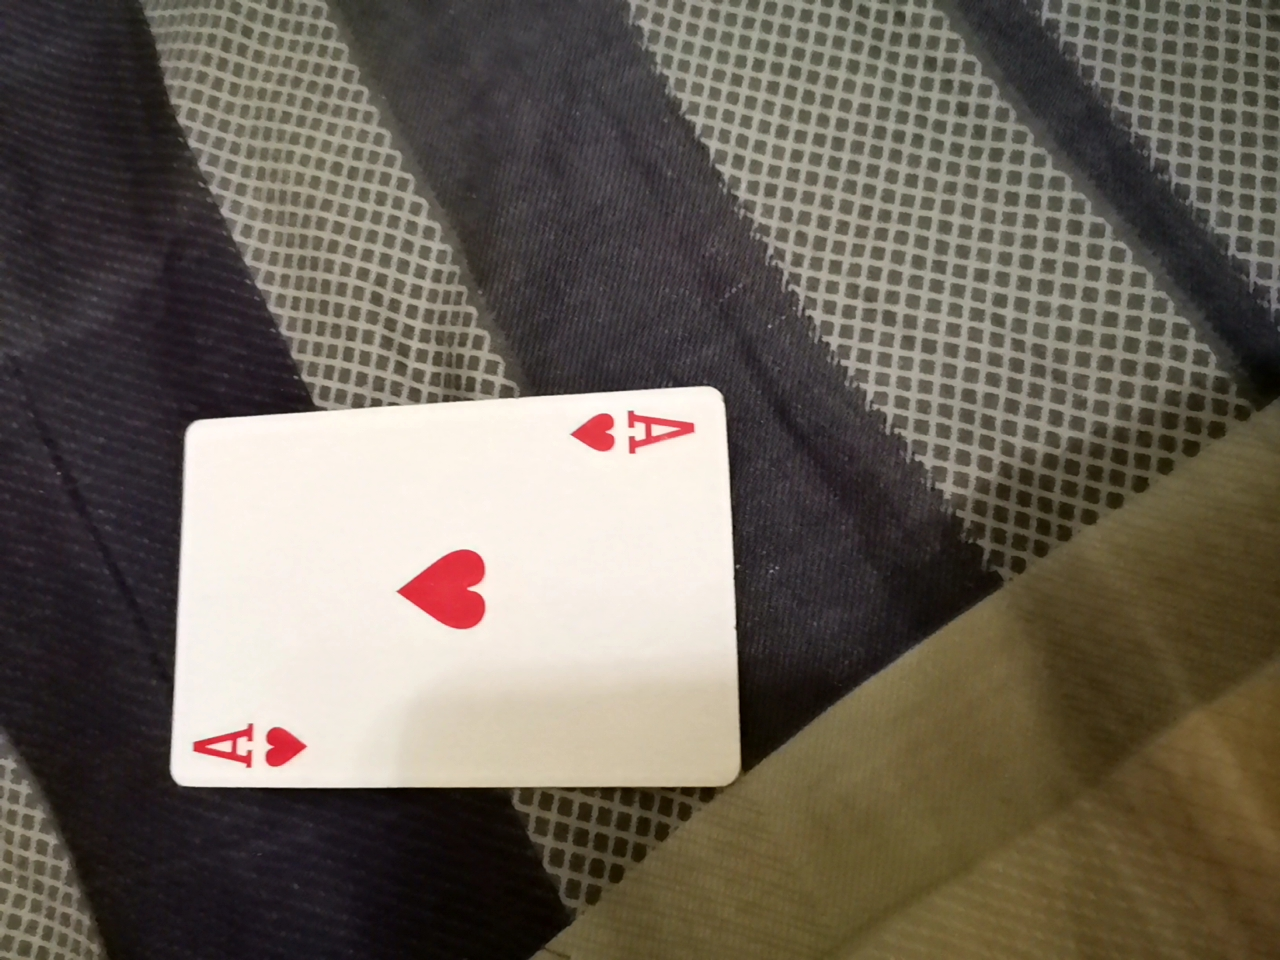hx a: (153, 377, 745, 802)
